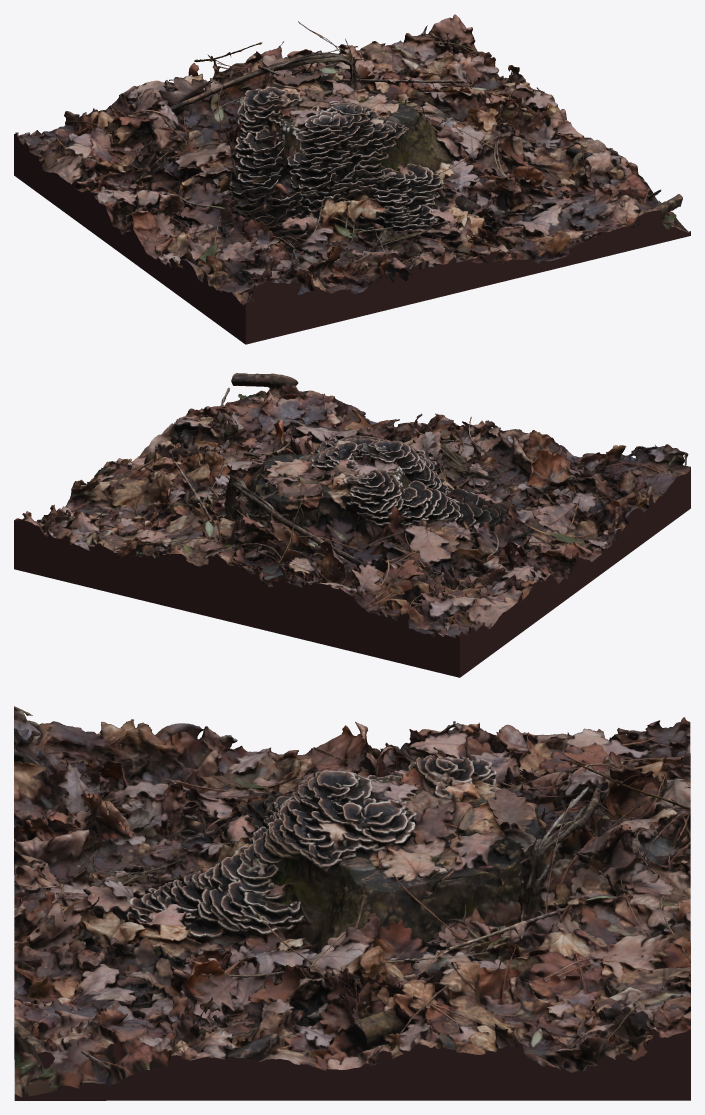
File: model-trametes-versicolor-v0672.glb
The picture shows the model from 3 angles, top to bottom: view 1: azimuth 30°, elevation 25°; view 2: azimuth 150°, elevation 25°; view 3: azimuth 270°, elevation 25°; orthographic projection. The views are drawn at different scales.
Visible parts, largest first — view 1: Object_14, Object_3, Object_5, Object_7, Object_8, Object_4, Object_6, Object_10, Object_12, Object_9, Object_11, Object_13; view 2: Object_14, Object_3, Object_7, Object_5, Object_4, Object_6, Object_9, Object_11, Object_10, Object_12, Object_8, Object_13; view 3: Object_3, Object_6, Object_9, Object_7, Object_8, Object_4, Object_14, Object_10, Object_11, Object_12, Object_5, Object_13.
Boxes of the visible parts, bbox=[...] form: Object_14: bbox=[14, 132, 690, 344]; Object_3: bbox=[16, 17, 690, 305]; Object_5: bbox=[71, 70, 468, 259]; Object_7: bbox=[155, 80, 678, 286]; Object_8: bbox=[164, 144, 618, 285]; Object_4: bbox=[187, 39, 467, 184]; Object_6: bbox=[17, 67, 557, 259]; Object_10: bbox=[45, 41, 680, 249]; Object_12: bbox=[72, 170, 438, 299]; Object_9: bbox=[135, 14, 591, 243]; Object_11: bbox=[62, 42, 659, 258]; Object_13: bbox=[232, 132, 462, 303]; Object_14: bbox=[14, 467, 690, 677]; Object_3: bbox=[14, 373, 690, 637]; Object_7: bbox=[179, 374, 647, 555]; Object_5: bbox=[173, 436, 573, 603]; Object_4: bbox=[175, 435, 456, 557]; Object_6: bbox=[86, 436, 578, 634]; Object_9: bbox=[22, 419, 465, 584]; Object_11: bbox=[69, 392, 596, 620]; Object_10: bbox=[69, 374, 460, 632]; Object_12: bbox=[420, 436, 681, 601]; Object_8: bbox=[188, 398, 646, 548]; Object_13: bbox=[233, 420, 689, 512]; Object_3: bbox=[14, 706, 690, 1097]; Object_6: bbox=[240, 718, 690, 1048]; Object_9: bbox=[82, 763, 690, 1071]; Object_7: bbox=[14, 726, 517, 1095]; Object_8: bbox=[64, 736, 312, 1047]; Object_4: bbox=[262, 755, 559, 950]; Object_14: bbox=[14, 829, 690, 1100]; Object_10: bbox=[15, 738, 690, 1086]; Object_11: bbox=[82, 732, 690, 1083]; Object_12: bbox=[14, 711, 523, 898]; Object_5: bbox=[184, 721, 605, 953]; Object_13: bbox=[14, 707, 457, 973].
Bounding box in the file's own units: 4 × 1.02 × 3.6.
2 materials, 1 textured.
